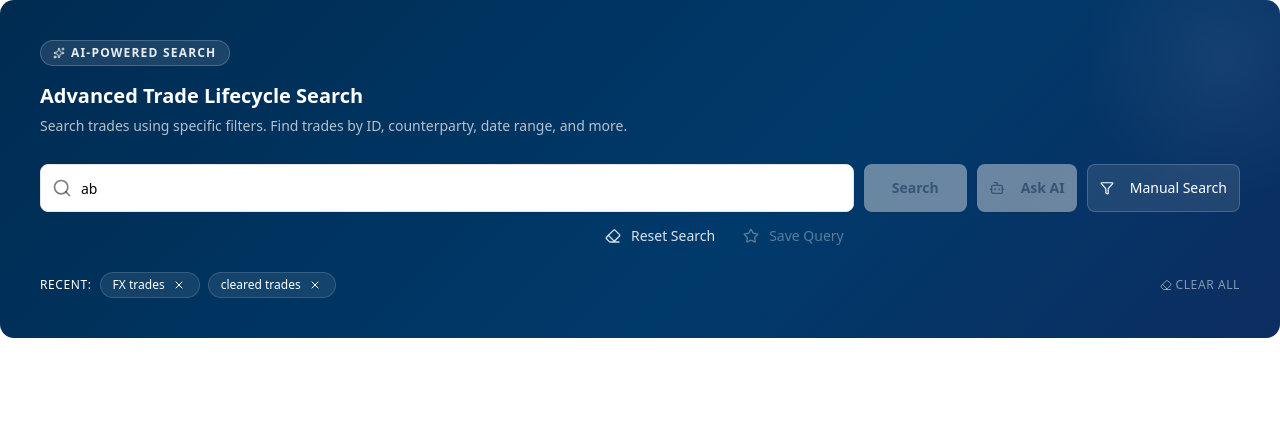
it: SearchHeader › Suggestions › clears validation error when selecting a recent search suggestion
Click the field with placeholder "Search by trade ID".
click(447, 188)  # box [40,164,854,212]
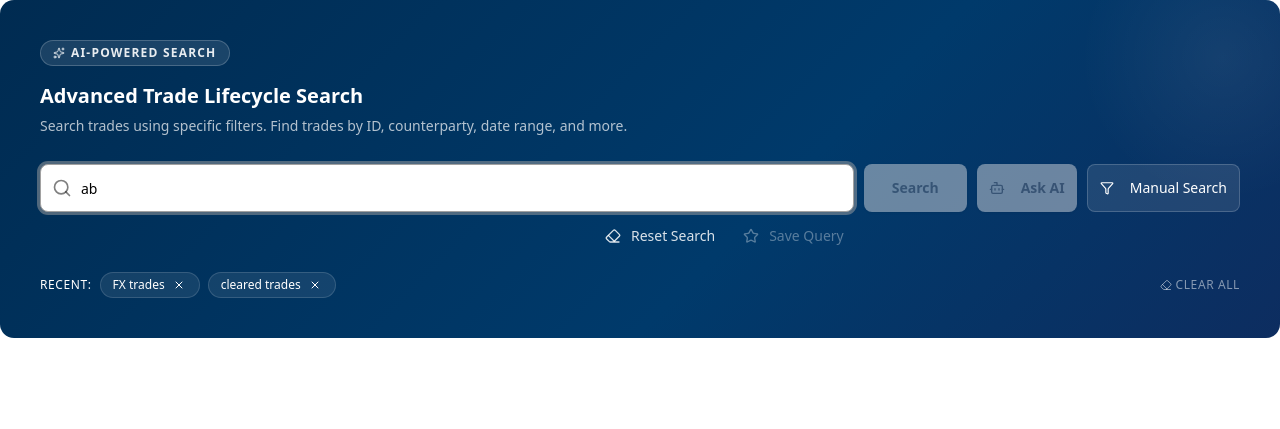
Press Enter
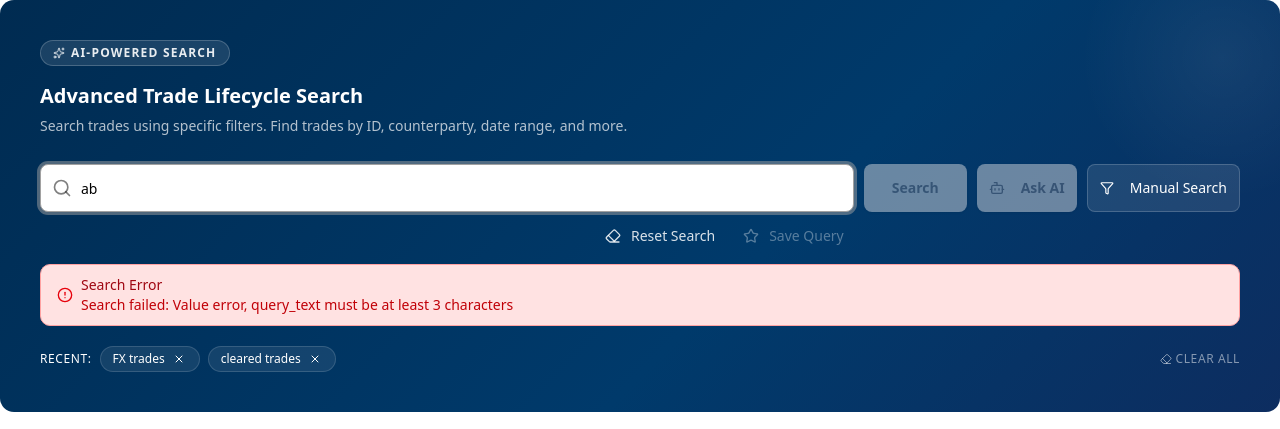
Now the text "at least 3 characters" is shown, box [81,295,513,314]
Click the button "FX trades".
click(139, 359)  # box [113,351,165,367]
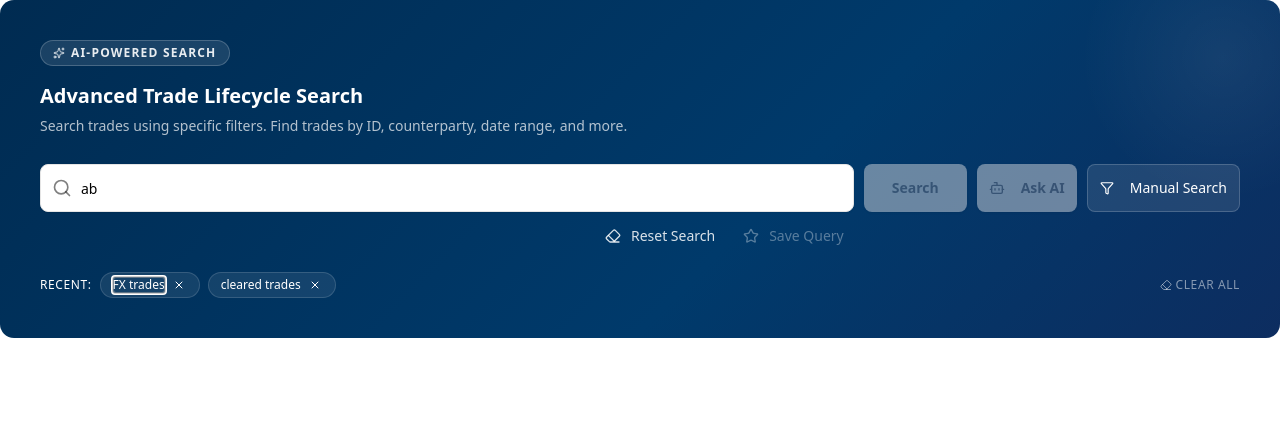
Now the text "at least 3 characters" is gone
